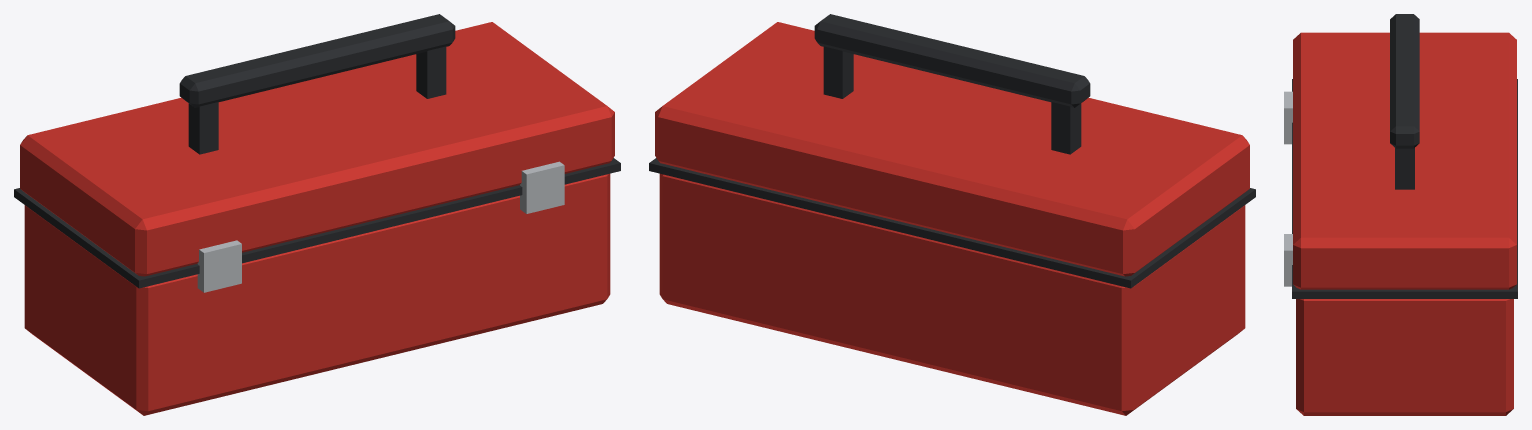
Rendered from toolbox.glb.
3 views of the same model, side by side, from view 1: azimuth 30°, elevation 25°; view 2: azimuth 150°, elevation 25°; view 3: azimuth 270°, elevation 25° (orthographic). The views are drawn at different scales.
Parts seen in each view (by area): view 1: Toolbox; view 2: Toolbox; view 3: Toolbox.
Boxes of the visible parts, x1,y1,x2,y2 form: Toolbox: (14,14,620,415); Toolbox: (649,14,1255,415); Toolbox: (1284,14,1517,415).
Size of what is drawn, in the model's own units: 0.508 by 0.2725 by 0.236.
